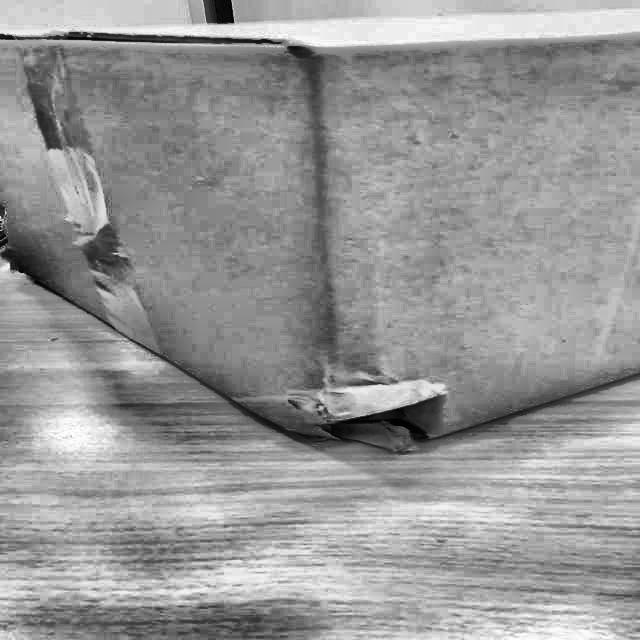box: (0, 8, 639, 454)
hole: (312, 378, 453, 456)
